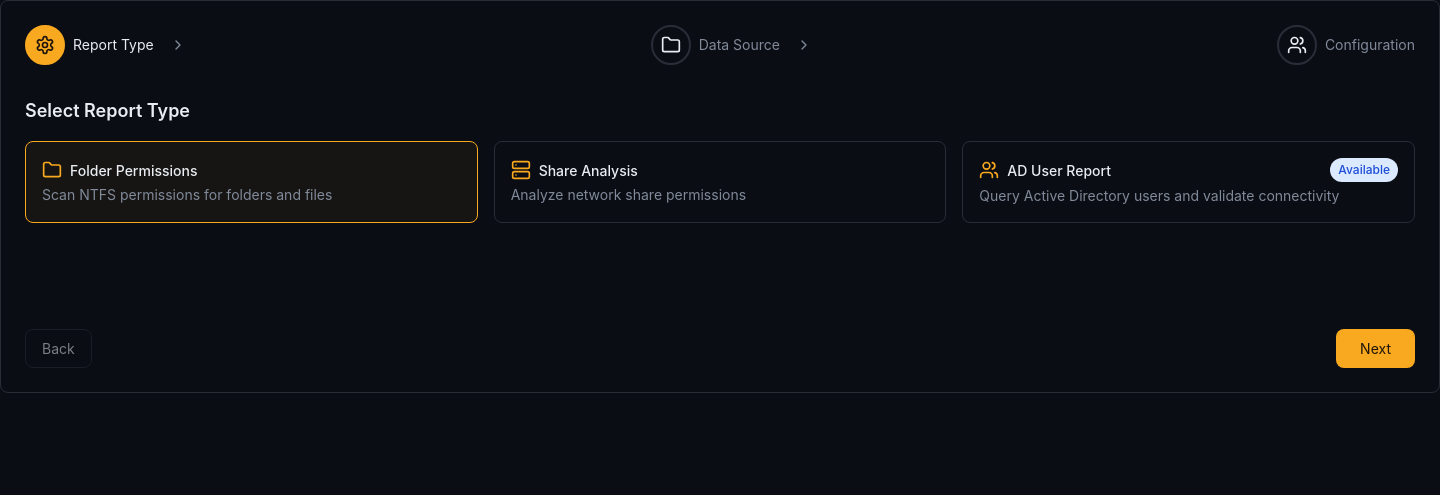
Test: ScanWizard › shows AD configuration when AD type selected
What coordinates should you click on to do the following:
click the heading "AD User Report"
I would click on:
 (1059, 170)
Its box is x1=1007 y1=160 x2=1111 y2=180.
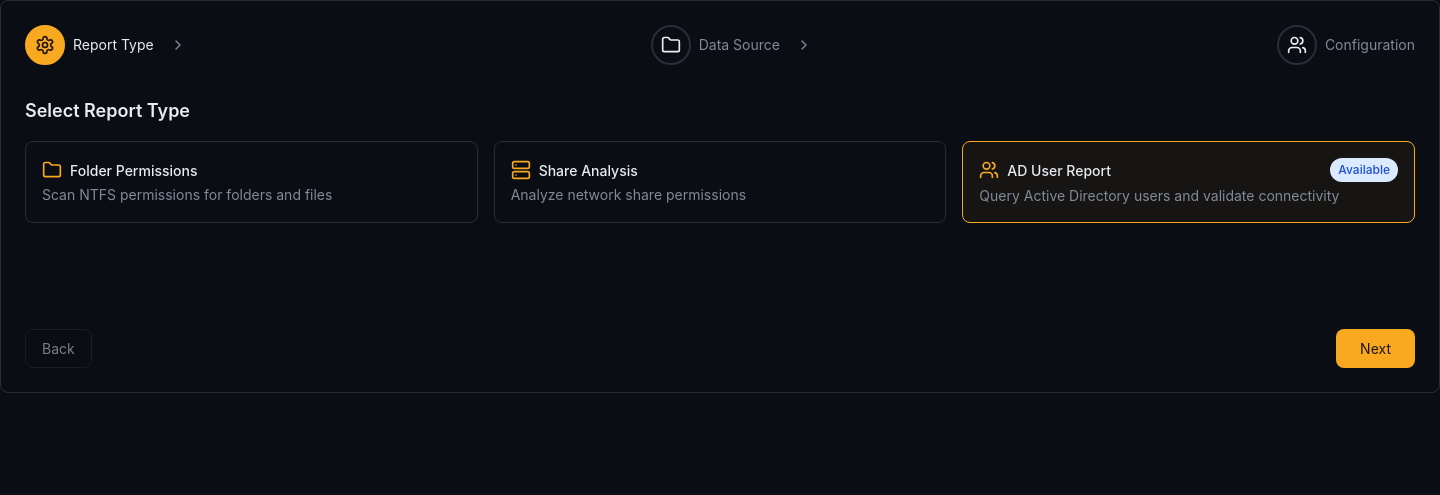
What coordinates should you click on to do the following:
click the button "Next"
I would click on:
 (1376, 348)
Its box is x1=1336 y1=329 x2=1415 y2=368.
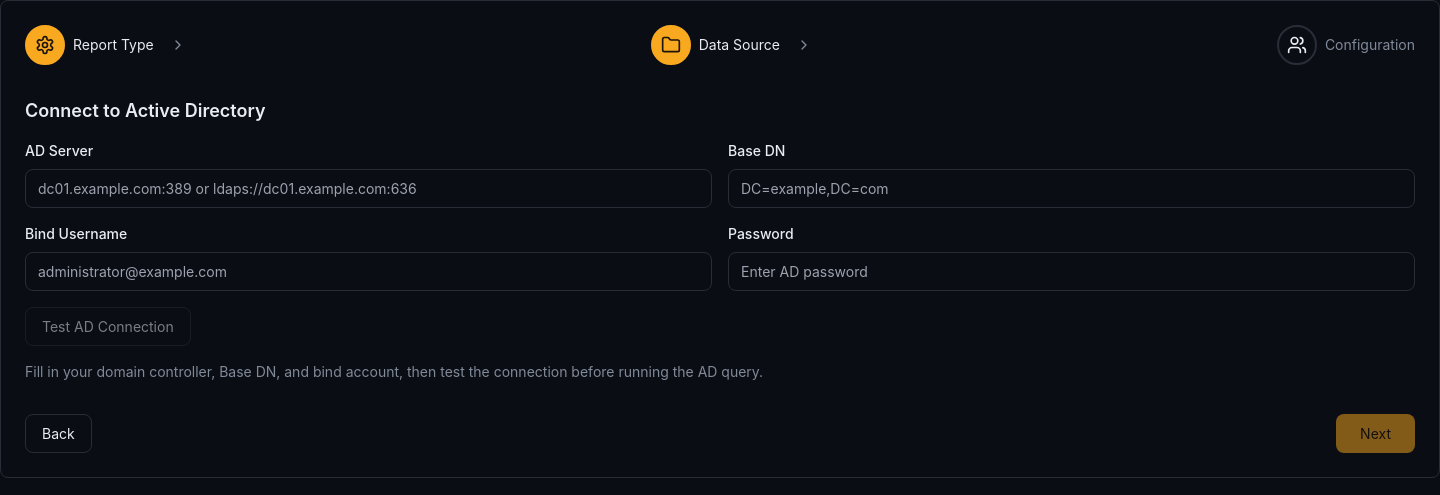
Expected: the text "AD Server" is shown, x1=25 y1=142 x2=93 y2=159
Expected: the text "Base DN" is shown, x1=728 y1=142 x2=785 y2=159
